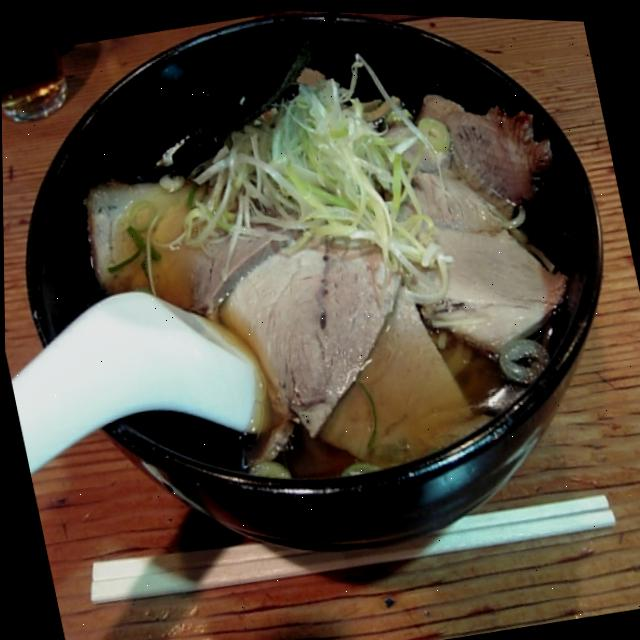面条主食: (53, 28, 619, 521)
